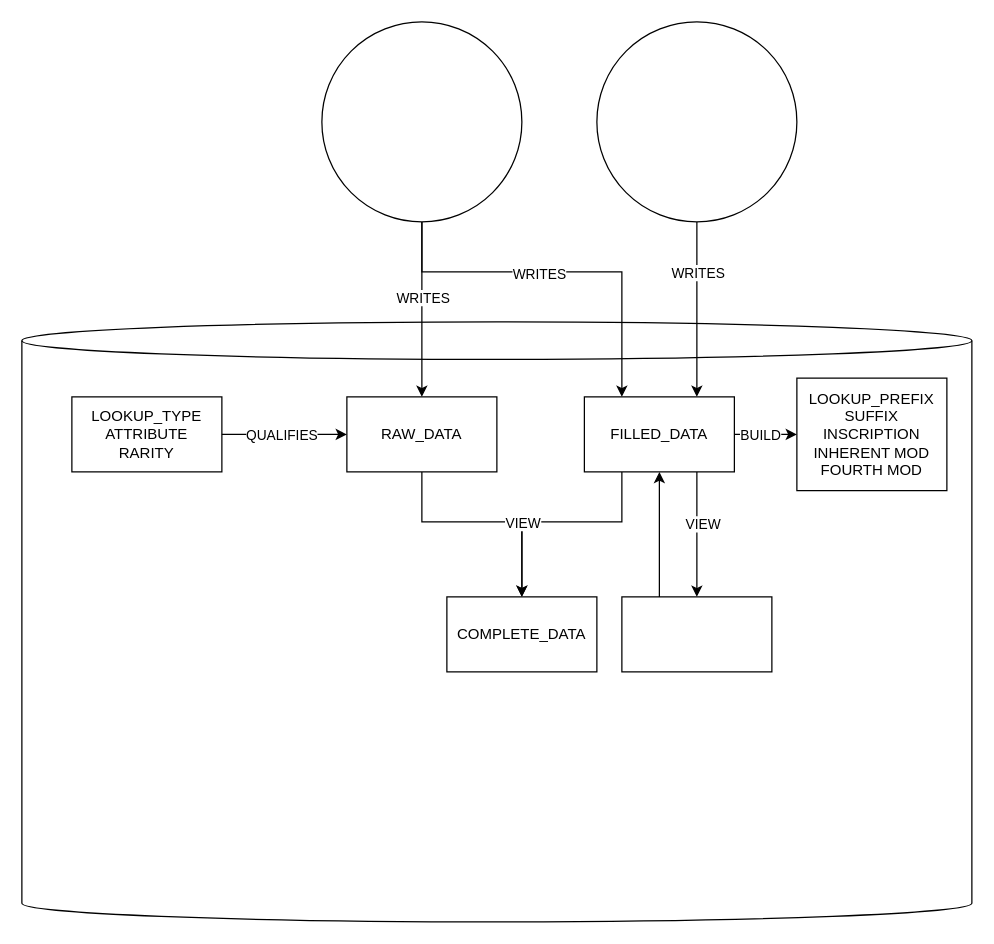
The diagram is 994 pixels wide and 944 high, and some of its shapes have lost their labels. Each missing label, with the centre of its shape:
"BOT" belongs at point (421, 121).
"LOOKUP_MODEL" belongs at point (696, 634).
"USER" belongs at point (696, 121).
